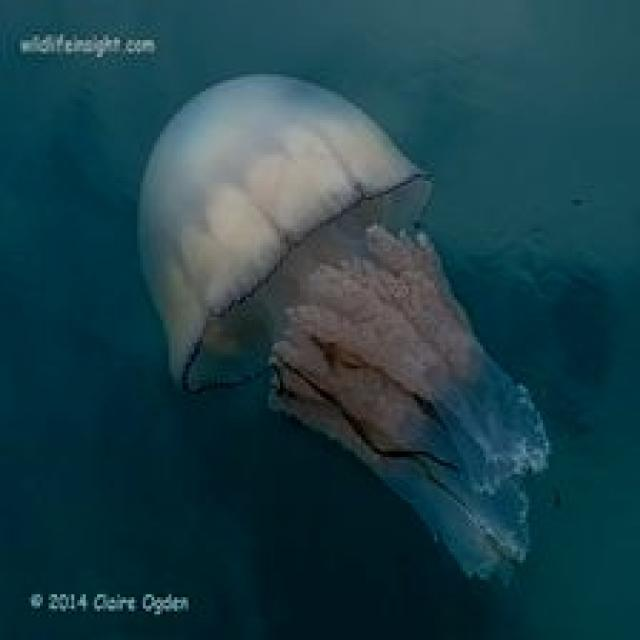Jellyfish: (134, 71, 552, 586)
